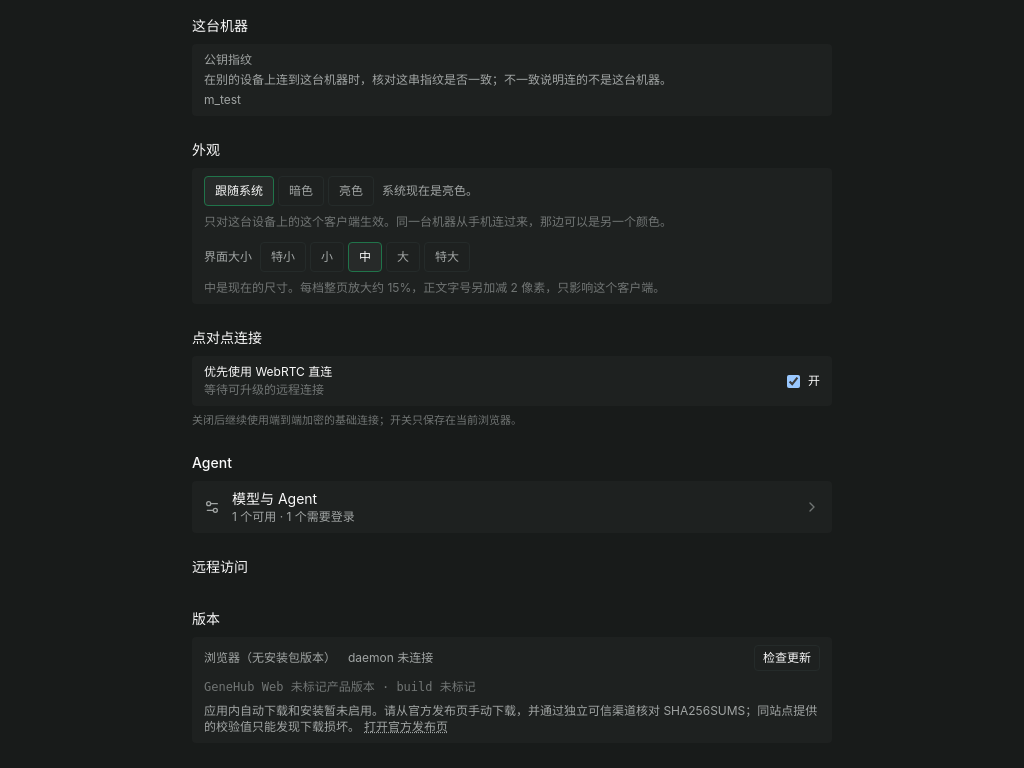
Test: the two doors into 模型与 Agent › system settings has one row that opens the same dialog
Click the button "模型与 Agent 1 个可用 · 1 个需要登录": (275, 498) [192,480,832,532]
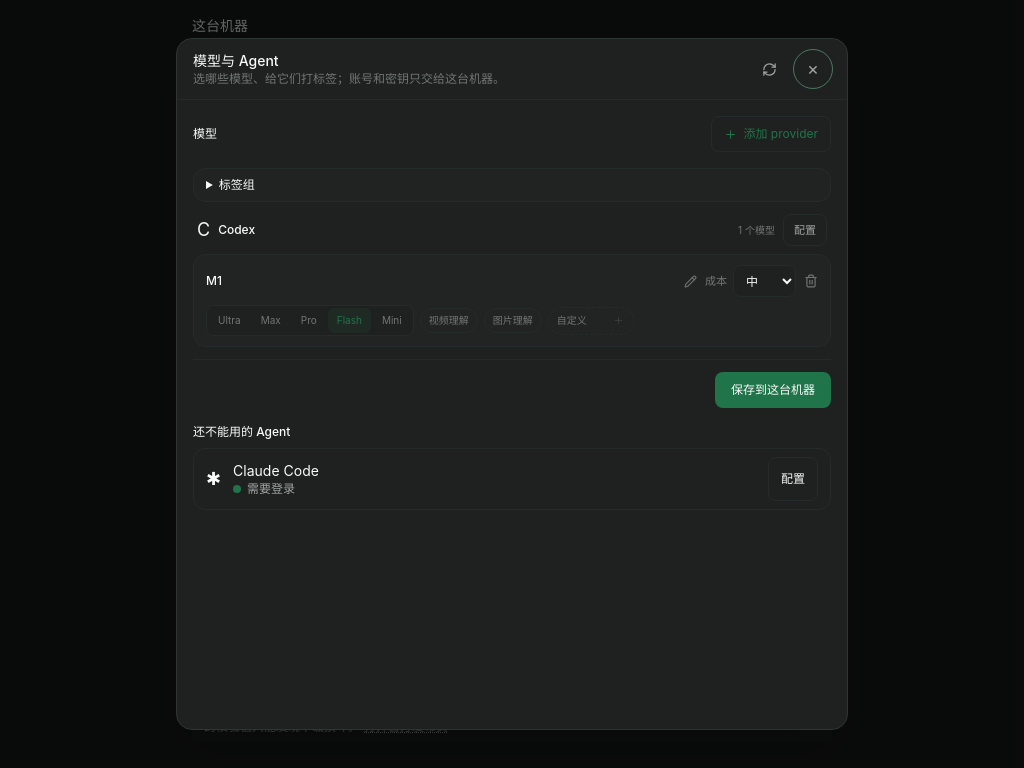
Expected: the dialog "模型与 Agent" is shown, [176,38,848,730]
